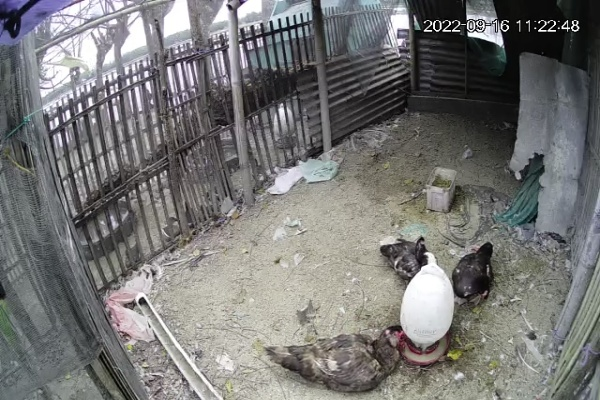Entog: (264, 324, 407, 395), (451, 238, 496, 308), (376, 232, 429, 279)
